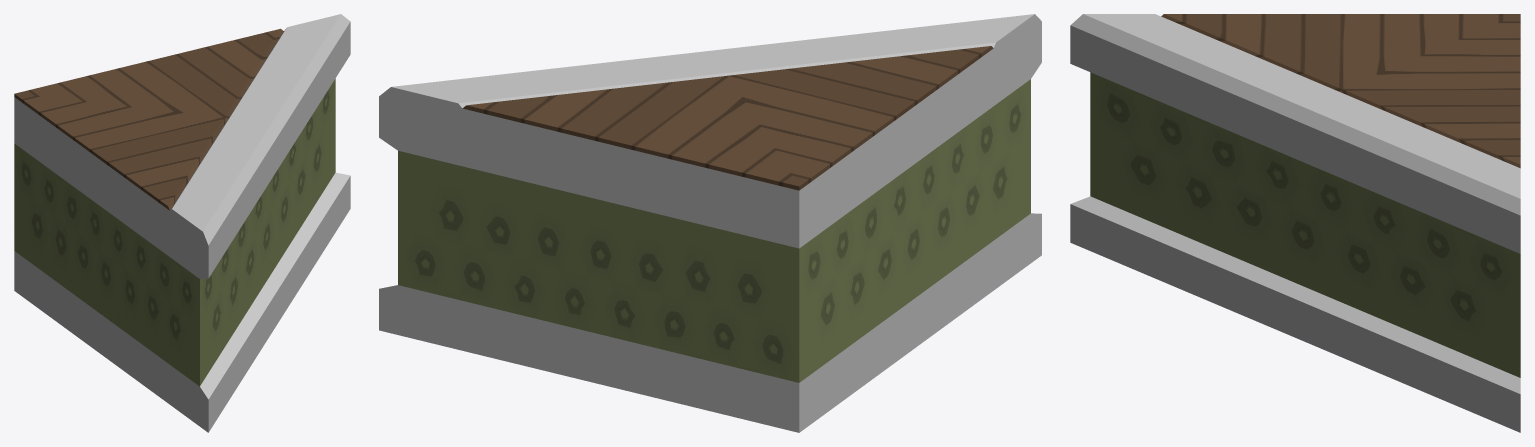
The model's file is SM_Prop_Platform_01_Corner_L_02.fbx.
3 views of the same model, side by side, from view 1: azimuth 30°, elevation 25°; view 2: azimuth 150°, elevation 25°; view 3: azimuth 270°, elevation 25° (orthographic). The views are drawn at different scales.
Parts seen in each view (by area): view 1: SM_Prop_Platform_01_Corner_L_02; view 2: SM_Prop_Platform_01_Corner_L_02; view 3: SM_Prop_Platform_01_Corner_L_02.
Part boxes in pixels (x1=…): SM_Prop_Platform_01_Corner_L_02: x1=14, y1=14, x2=350, y2=432; SM_Prop_Platform_01_Corner_L_02: x1=379, y1=14, x2=1041, y2=432; SM_Prop_Platform_01_Corner_L_02: x1=1070, y1=14, x2=1520, y2=432.
Bounding box in the file's own units: 178 × 100 × 178.
